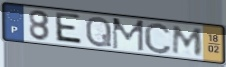8: (28, 9, 51, 42)
C: (142, 21, 173, 55)
E: (54, 11, 84, 47)
M: (111, 17, 146, 53), (171, 25, 205, 57)
Q: (84, 15, 113, 49)
